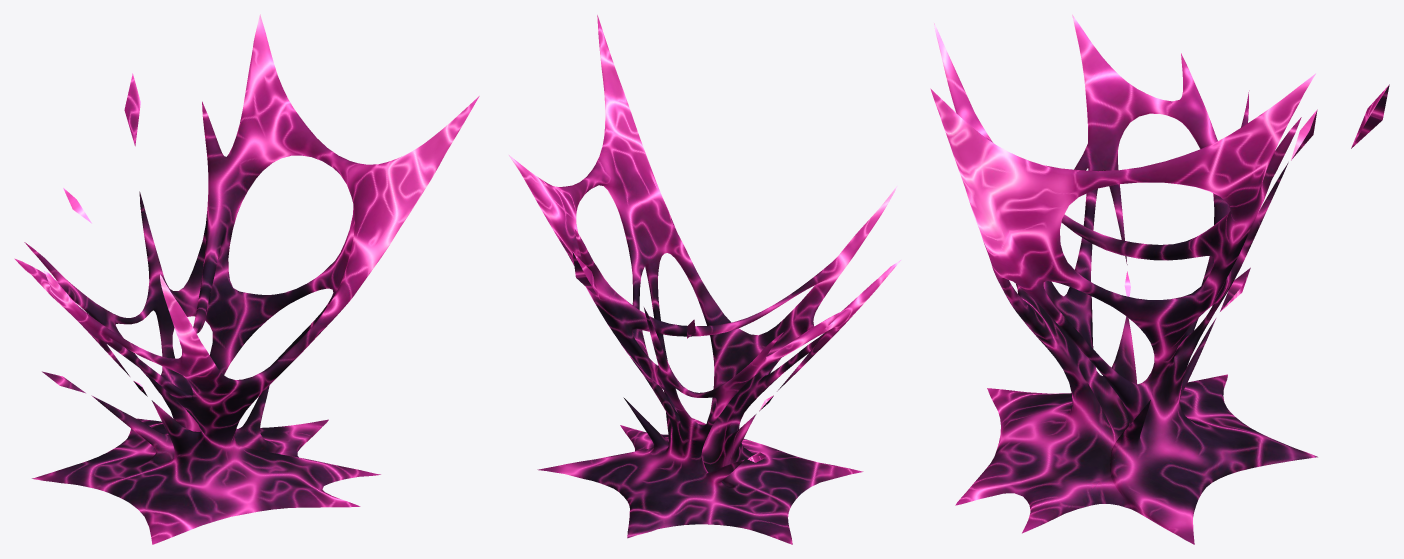
File: caos_hro_chaosconfluence_01a_chaos_v36.glb
3 views of the same model, side by side, from view 1: azimuth 30°, elevation 25°; view 2: azimuth 150°, elevation 25°; view 3: azimuth 270°, elevation 25° (orthographic). The views are drawn at different scales.
Visible parts, largest first — view 1: caos_hro_chaosconfluence_01a; view 2: caos_hro_chaosconfluence_01a; view 3: caos_hro_chaosconfluence_01a.
Part boxes in pixels (bbox=[...]): caos_hro_chaosconfluence_01a: bbox=[14, 14, 479, 544]; caos_hro_chaosconfluence_01a: bbox=[509, 15, 900, 544]; caos_hro_chaosconfluence_01a: bbox=[930, 14, 1389, 544].
Bounding box in the file's own units: 25.11 × 24.85 × 21.42.
Materials: 1 (1 with a texture image).
